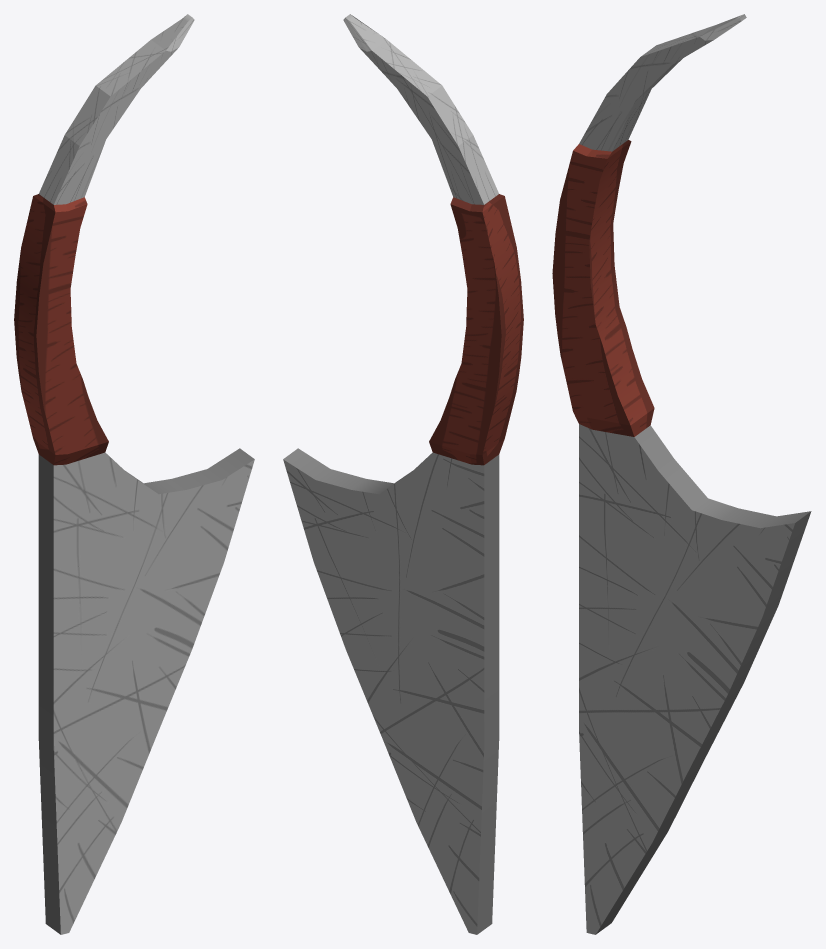
The model's file is Knife.fbx.
The picture shows the model from 3 angles, left to right: view 1: azimuth 30°, elevation 25°; view 2: azimuth 150°, elevation 25°; view 3: azimuth 330°, elevation 25°; orthographic projection. The views are drawn at different scales.
Visible parts, largest first — view 1: pCube1; view 2: pCube1; view 3: pCube1.
Part boxes in pixels (x1=…): pCube1: x1=14, y1=14, x2=254, y2=934; pCube1: x1=283, y1=14, x2=523, y2=934; pCube1: x1=552, y1=14, x2=811, y2=934.
Bounding box in the file's own units: 2.41 × 9.13 × 0.4191.
